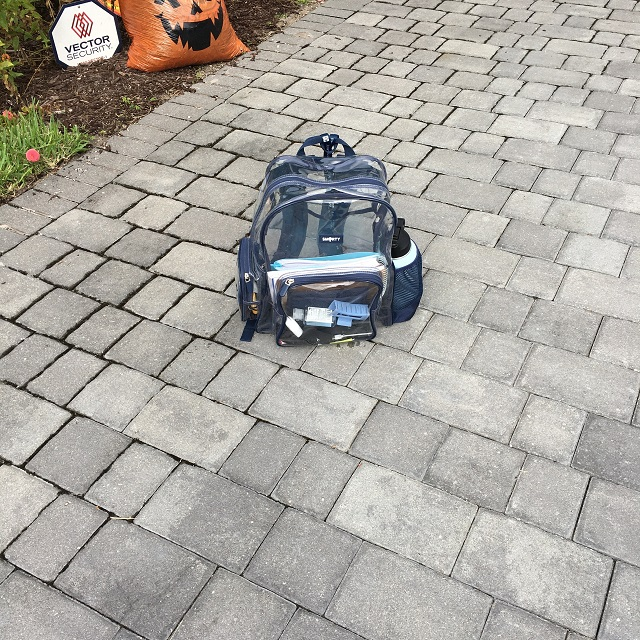clearbackpack: (234, 134, 425, 357), (233, 136, 430, 347)
